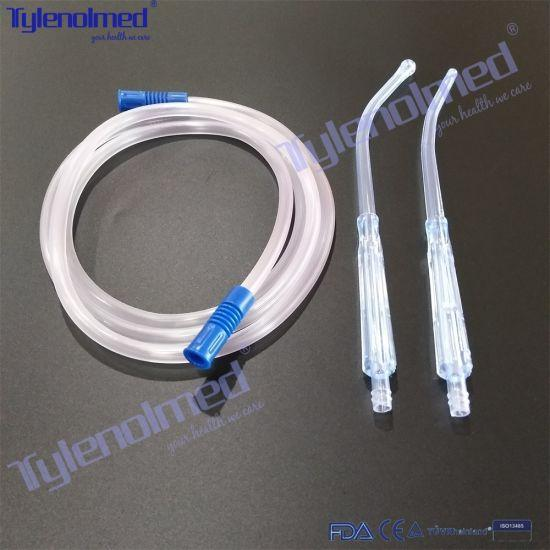Suction Tube Nozzle: (34, 57, 425, 422)
